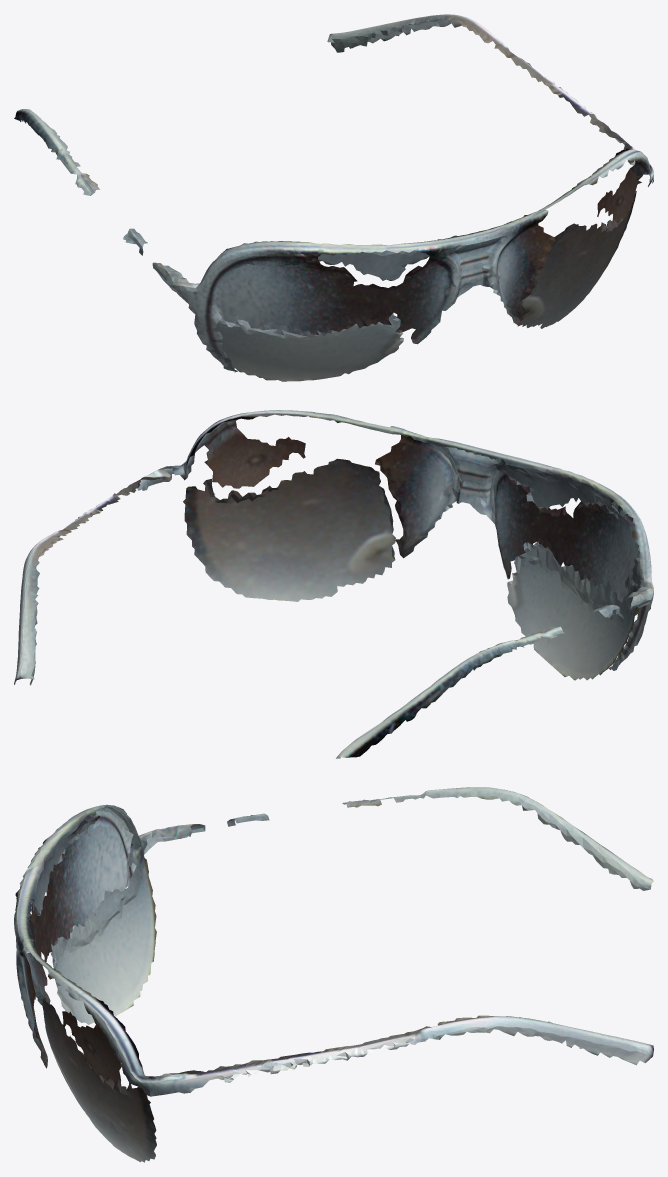
The model's file is scan_align.obj.
3 views of the same model, one above another, from view 1: azimuth 30°, elevation 25°; view 2: azimuth 150°, elevation 25°; view 3: azimuth 270°, elevation 25° (orthographic). The views are drawn at different scales.
Bounding box in the file's own units: 0.1489 × 0.0476 × 0.1556.
Materials: 1 (1 with a texture image).
